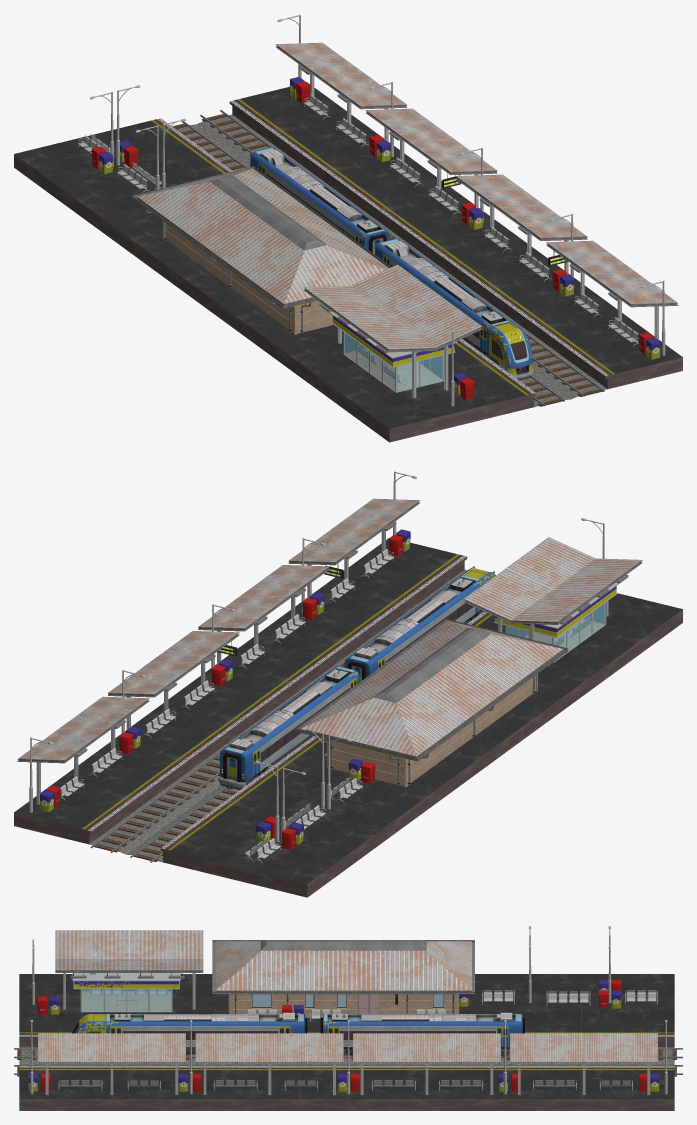
The model's file is train_ride.glb.
3 views of the same model, one above another, from view 1: azimuth 30°, elevation 25°; view 2: azimuth 150°, elevation 25°; view 3: azimuth 270°, elevation 25° (orthographic). The views are drawn at different scales.
Parts seen in each view (by area): view 1: Platform top.001, Platform top.002, Station roof, Waiting shed roof, Platform Bottom, Platform Bottom.001, Waiting shed post.001, Waiting shed post.004, Waiting shed post.002, Waiting shed post.003, Track rocks.001, Main station (+14 smaller); view 2: Platform top.002, Platform top.001, Station roof, Waiting shed roof, Platform Bottom, Platform Bottom.001, Waiting shed post.004, Main station, Waiting shed post.001, Waiting shed post.003, Waiting shed post.002, Track rocks.001 (+14 smaller); view 3: Platform top.001, Platform top.002, Station roof, Platform Bottom.001, Waiting shed roof, Waiting shed post.001, Waiting shed post.003, Waiting shed post.002, Waiting shed post.004, Main station, Track rocks, Station roof.001 (+25 smaller).
Part boxes in pixels (x1,y1,x2,y2): Platform top.001: (230, 82, 682, 375); Platform top.002: (14, 118, 535, 428); Station roof: (137, 168, 388, 303); Waiting shed roof: (303, 264, 482, 352); Platform Bottom: (14, 154, 536, 442); Platform Bottom.001: (229, 101, 682, 388); Waiting shed post.001: (546, 240, 677, 339); Waiting shed post.004: (275, 42, 407, 141); Waiting shed post.002: (455, 174, 587, 274); Waiting shed post.003: (365, 108, 497, 207); Track rocks.001: (195, 114, 607, 399); Main station: (166, 224, 333, 333); Platform top.002: (161, 593, 682, 883); Platform top.001: (14, 537, 466, 831); Station roof: (302, 621, 562, 756); Waiting shed roof: (464, 537, 642, 624); Platform Bottom: (160, 609, 682, 897); Platform Bottom.001: (14, 557, 467, 844); Waiting shed post.004: (17, 696, 149, 804); Main station: (330, 675, 535, 786); Waiting shed post.001: (288, 498, 420, 598); Waiting shed post.003: (108, 631, 239, 729); Waiting shed post.002: (198, 565, 329, 664); Track rocks.001: (89, 569, 466, 854); Platform top.001: (19, 1066, 674, 1098); Platform top.002: (19, 974, 674, 1036); Station roof: (215, 941, 471, 990); Platform Bottom.001: (19, 1099, 674, 1110); Waiting shed roof: (55, 930, 203, 972); Waiting shed post.001: (38, 1033, 185, 1095); Waiting shed post.003: (353, 1033, 500, 1094); Waiting shed post.002: (195, 1033, 343, 1095); Waiting shed post.004: (510, 1033, 657, 1095); Main station: (231, 994, 456, 1017); Track rocks: (19, 1047, 674, 1064); Station roof.001: (212, 940, 474, 994).
Bounding box in the file's own units: 38.55 × 10.97 × 85.58.
Materials: 4 (4 with a texture image).
